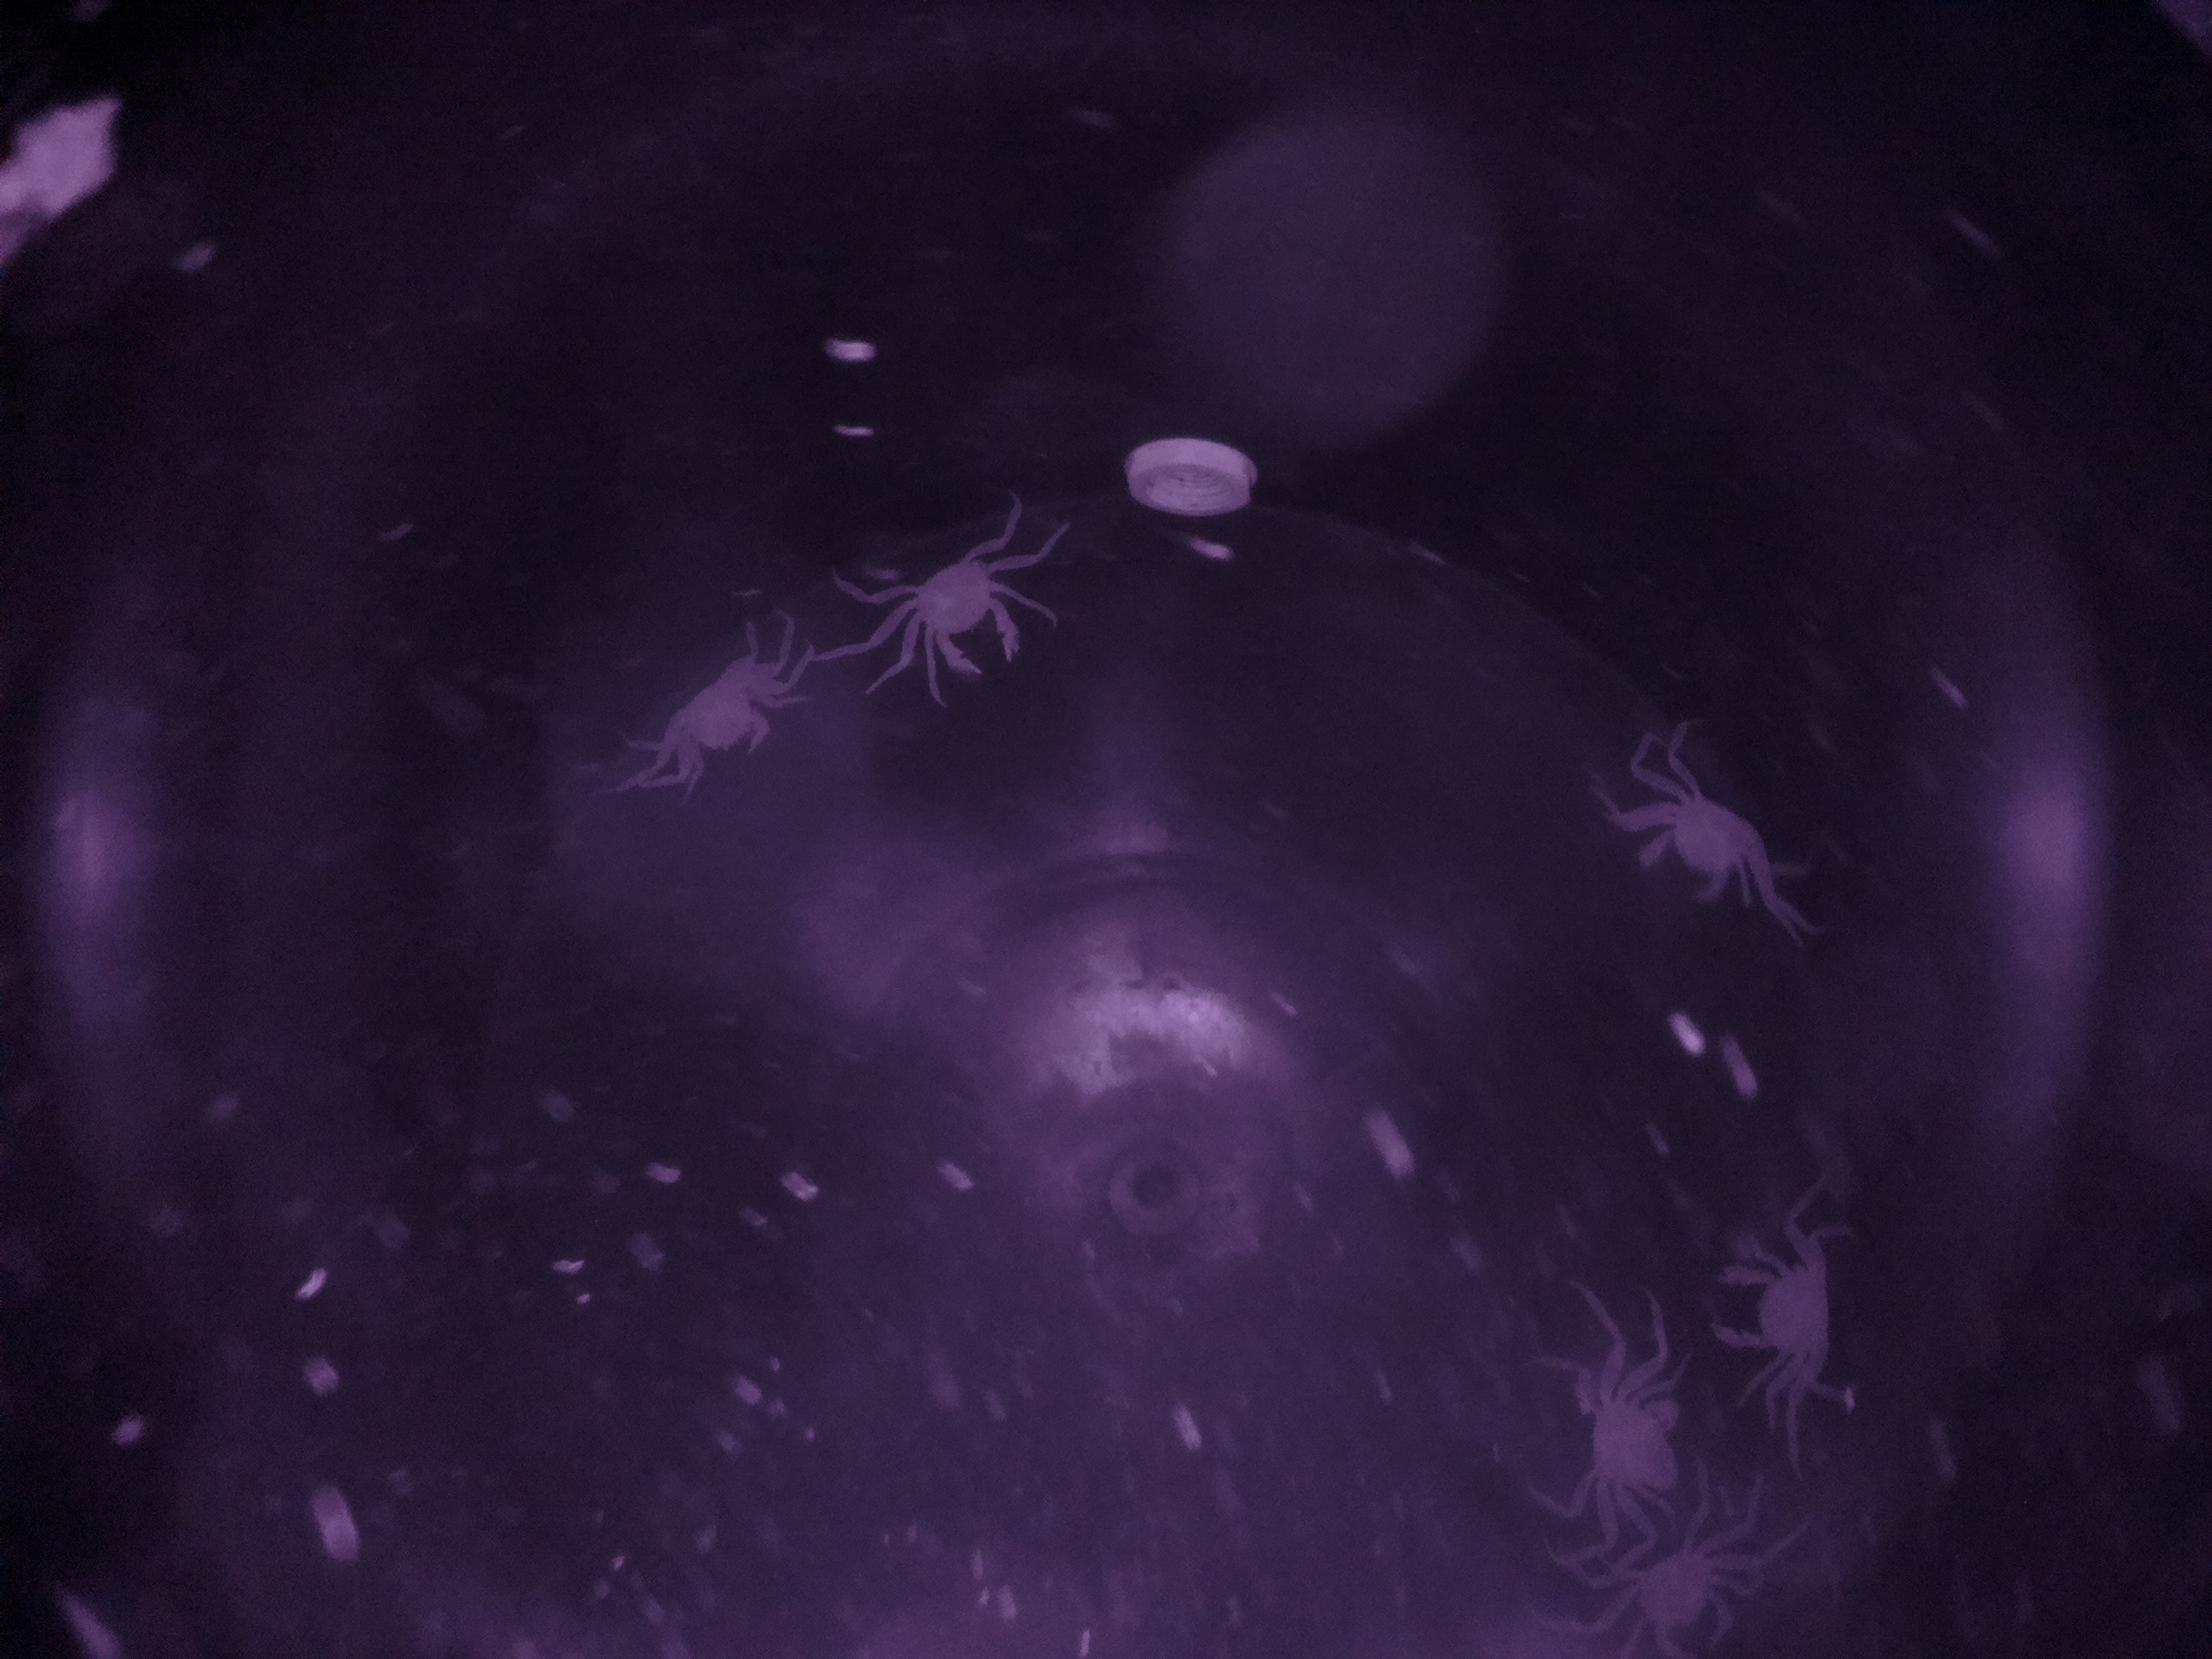Crab: (848, 509, 1040, 699), (1608, 755, 1791, 948), (1575, 1513, 1825, 1649), (627, 627, 822, 795), (1527, 1323, 1693, 1518), (1716, 1230, 1865, 1385)
